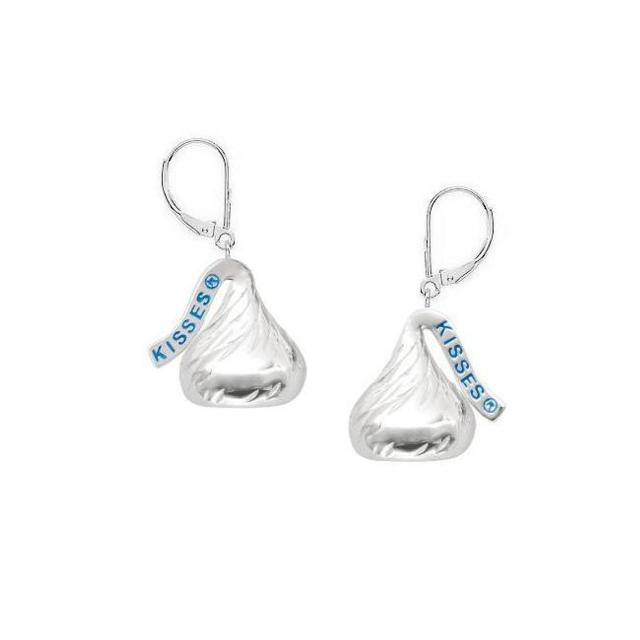kisses: (143, 134, 315, 414), (343, 189, 516, 460)
